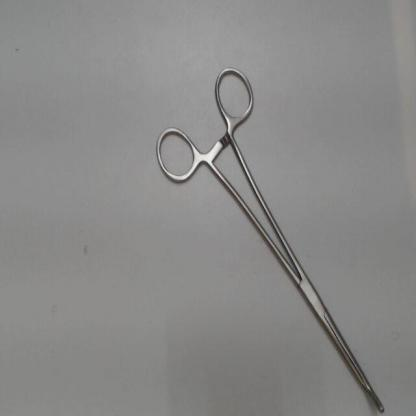Lahey Forceps: (152, 60, 393, 413)
